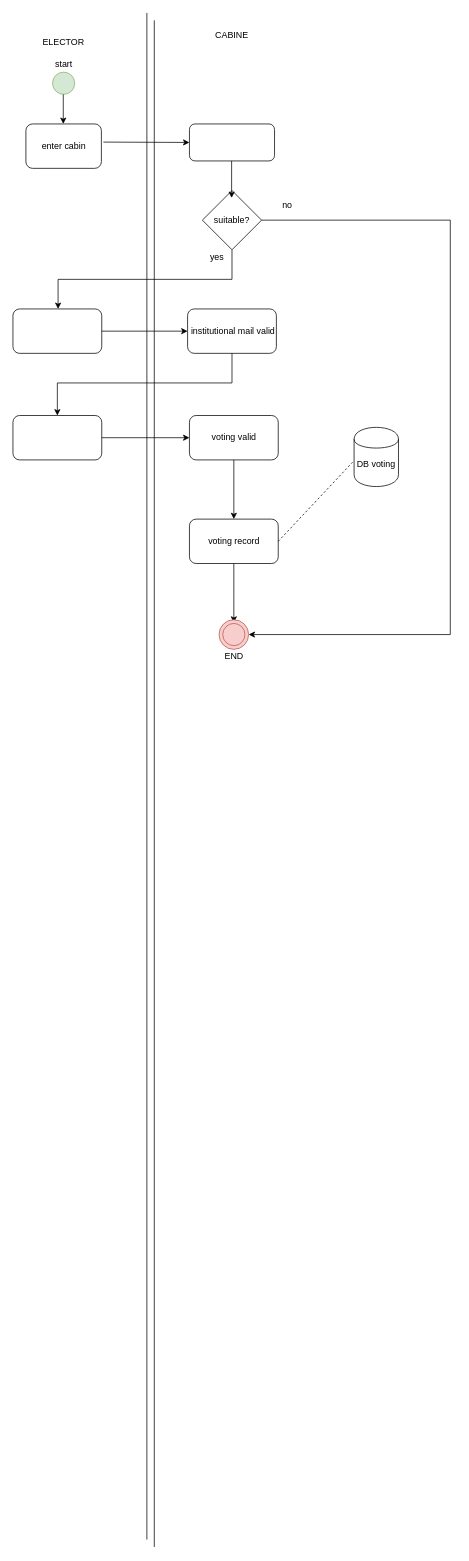
Some shapes in this 469 by 1561 pixel diagram are drawn without their labels. Each missing label, with the centre of its shape:
"digit dni" goes at [232,142].
"logue with institutional email" goes at [57,330].
"mote voting" goes at [57,437].
